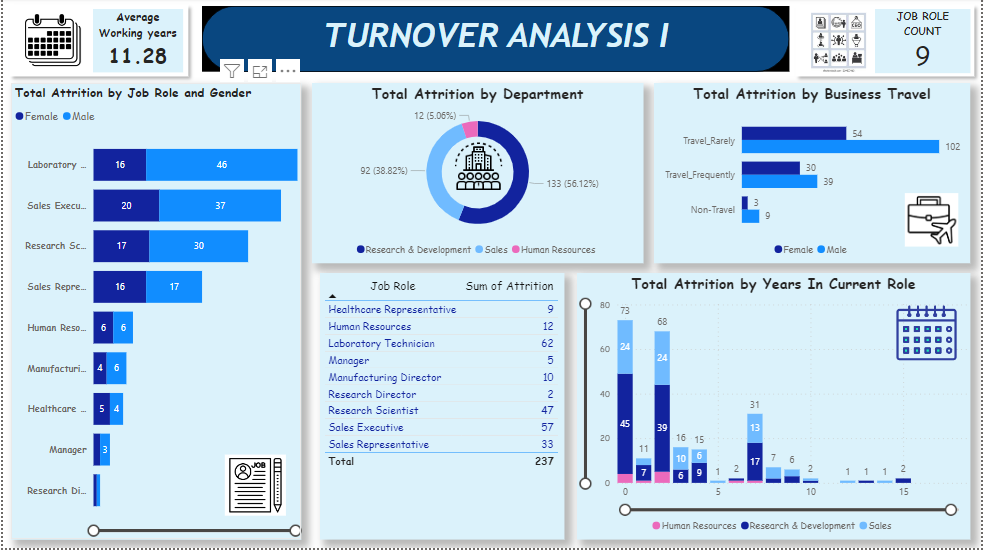

What the dashboard file says about the page in this screenshot:
{"tool":"powerbi","page":{"name":"TR I","canvas":[1280,720],"ordinal":2},"visuals":[{"type":"shape","box":[260,10,768.8,86.2],"z":0},{"type":"shape","box":[1028.8,0,251.2,111.2],"z":1000},{"type":"card","title":"JOB ROLE COUNT","fields":{"Values":["Count(HR-Employee-Attrition.Job Role)"]},"box":[1141.2,13.8,125,83.8],"z":2000},{"type":"image","box":[1032.5,13.8,122.5,87.5],"z":3000},{"type":"shape","box":[0,0,251.2,111.2],"z":4000},{"type":"card","title":"Average Working years","fields":{"Values":["Avg(HR-Employee-Attrition.Total Working Years)"]},"box":[117.5,13.8,117.5,82.5],"z":5000},{"type":"image","box":[22.5,10,85,90],"z":6000},{"type":"barChart","title":"Total Attrition by Job Role and Gender","fields":{"Category":["HR-Employee-Attrition.Job Role"],"Y":["Sum(HR-Employee-Attrition.Attrition Count)"],"Series":["HR-Employee-Attrition.Gender"]},"box":[10,111.2,380,597.5],"z":7000},{"type":"donutChart","title":"Total Attrition by Department","fields":{"Category":["HR-Employee-Attrition.Department"],"Y":["Sum(HR-Employee-Attrition.Attrition Count)"]},"box":[405,111.2,433.8,236.2],"z":8000},{"type":"image","box":[582.5,183.8,80,73.8],"z":9000},{"type":"clusteredBarChart","title":"Total Attrition by Business Travel","fields":{"Category":["HR-Employee-Attrition.Business Travel"],"Y":["Sum(HR-Employee-Attrition.Attrition Count)"],"Series":["HR-Employee-Attrition.Gender"]},"box":[852.5,111.2,413.8,236.2],"z":10000},{"type":"tableEx","title":"Total Attrition by Business Travel","fields":{"Values":["HR-Employee-Attrition.Job Role","Sum(HR-Employee-Attrition.Attrition Count)"]},"box":[415,360,320,348.8],"z":11000},{"type":"columnChart","title":"Total Attrition by Years In Current Role","fields":{"Category":["HR-Employee-Attrition.Years In Curren tRole"],"Y":["Sum(HR-Employee-Attrition.Attrition Count)"],"Series":["HR-Employee-Attrition.Department"]},"box":[751.2,360,515,348.8],"z":12000},{"type":"image","box":[1152.5,386.2,113.8,100],"z":13000},{"type":"image","box":[1175,247.5,80,85],"z":14000},{"type":"image","box":[285,591.2,90,92.5],"z":15000}]}

Visuals, with their boxes in screenshot pixels (x1, y1, x2, y2), scaled from the page's 1280x720 canvas onto the 984x553 screenshot:
shape: [left=200, top=8, right=791, bottom=74]
shape: [left=791, top=0, right=983, bottom=85]
"JOB ROLE COUNT" card: [left=877, top=11, right=973, bottom=75]
image: [left=794, top=11, right=888, bottom=78]
shape: [left=0, top=0, right=193, bottom=85]
"Average Working years" card: [left=90, top=11, right=181, bottom=74]
image: [left=17, top=8, right=83, bottom=77]
"Total Attrition by Job Role and Gender" barChart: [left=8, top=85, right=300, bottom=544]
"Total Attrition by Department" donutChart: [left=311, top=85, right=645, bottom=267]
image: [left=448, top=141, right=509, bottom=198]
"Total Attrition by Business Travel" clusteredBarChart: [left=655, top=85, right=973, bottom=267]
"Total Attrition by Business Travel" tableEx: [left=319, top=276, right=565, bottom=544]
"Total Attrition by Years In Current Role" columnChart: [left=577, top=276, right=973, bottom=544]
image: [left=886, top=297, right=973, bottom=373]
image: [left=903, top=190, right=965, bottom=255]
image: [left=219, top=454, right=288, bottom=525]
